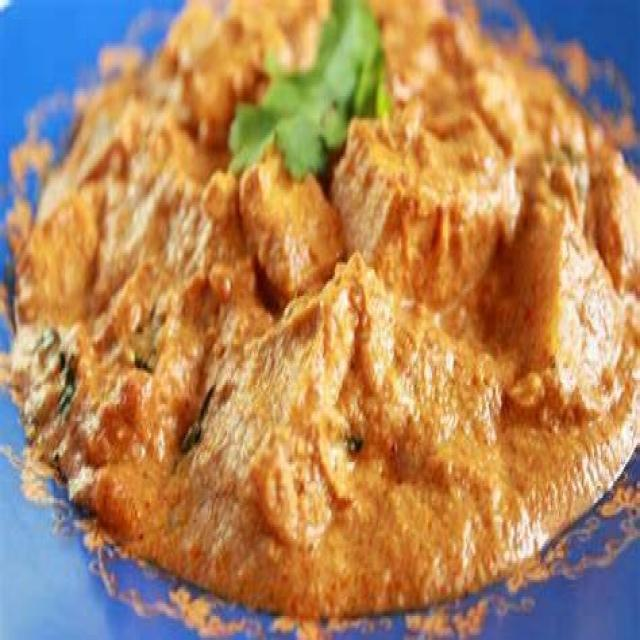ShahiPaneer: (13, 0, 640, 599)
